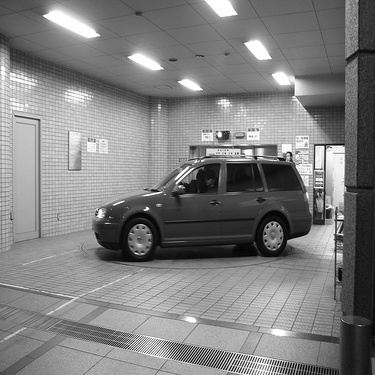car: (89, 154, 316, 255)
